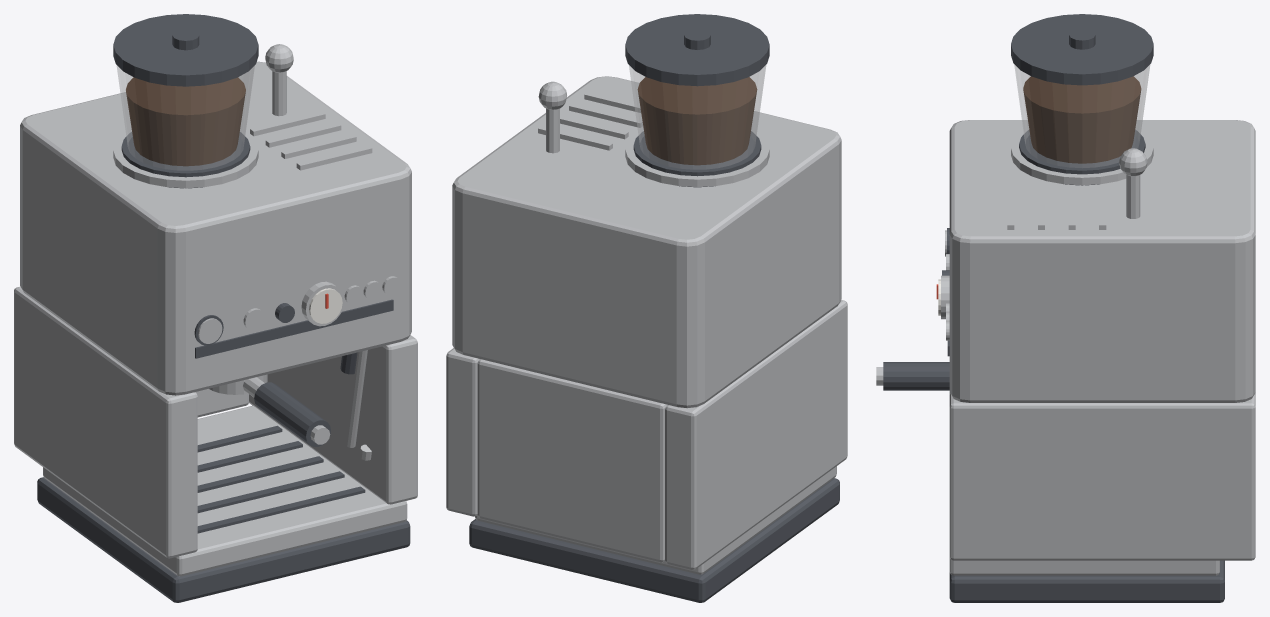
The model's file is coffee_machine.glb.
3 renders of one model, left to right at view 1: azimuth 30°, elevation 25°; view 2: azimuth 150°, elevation 25°; view 3: azimuth 270°, elevation 25°, orthographic.
Parts seen in each view (by area): view 1: CM_Body; view 2: CM_Body; view 3: CM_Body.
Boxes of the visible parts, x1=… form: CM_Body: x1=14, y1=14, x2=417, y2=602; CM_Body: x1=446, y1=14, x2=847, y2=602; CM_Body: x1=876, y1=14, x2=1255, y2=602.
Size of the model in its own units: 0.336 by 0.6408 by 0.4464.
